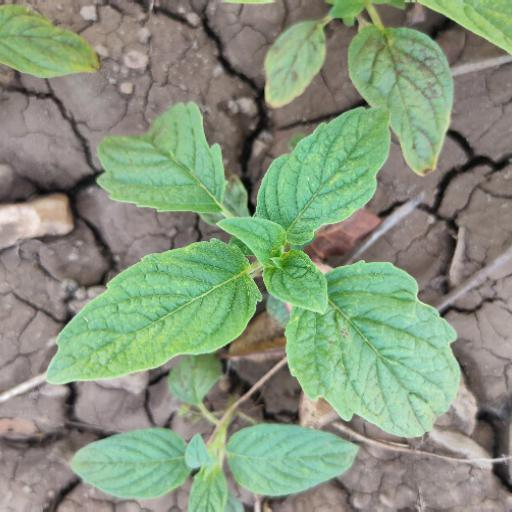crop: (28, 112, 477, 447)
